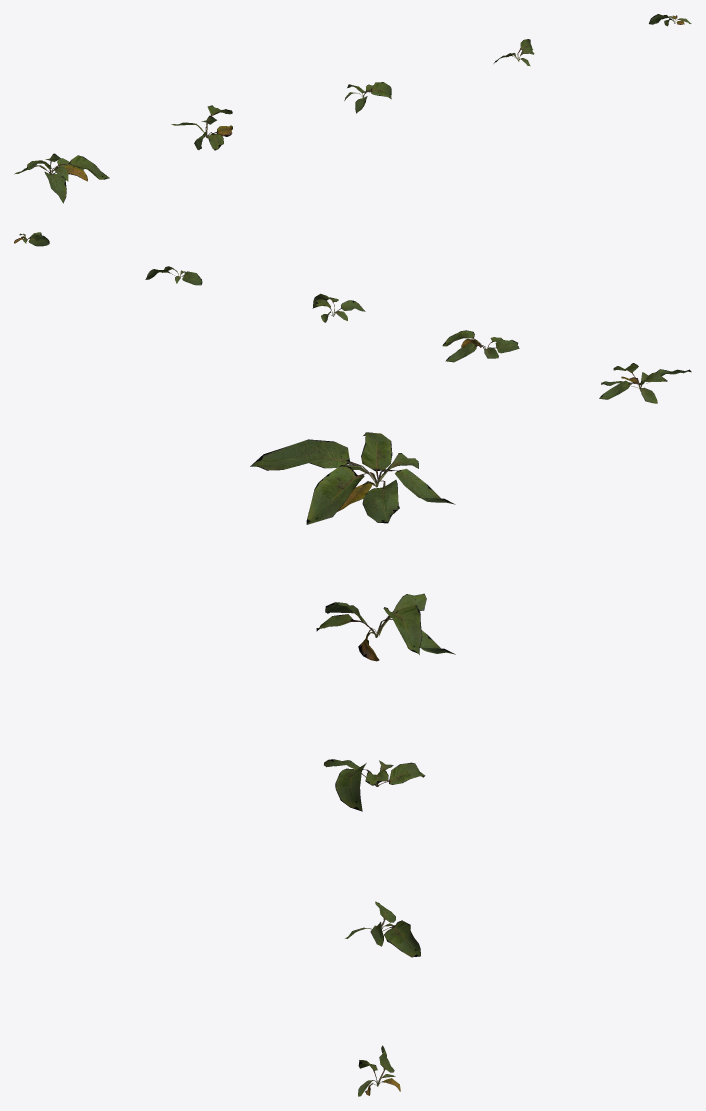
The model's file is weed_plant_02.glb.
3 views of the same model, one above another, from view 1: azimuth 30°, elevation 25°; view 2: azimuth 150°, elevation 25°; view 3: azimuth 270°, elevation 25° (orthographic). The views are drawn at different scales.
Visible parts, largest first — view 1: weed_plant_02_a_LOD0, weed_plant_02_b_LOD0, weed_plant_02_c_LOD0, weed_plant_02_d_LOD0; view 2: weed_plant_02_a_LOD0, weed_plant_02_b_LOD0, weed_plant_02_c_LOD0, weed_plant_02_d_LOD0, weed_plant_02_e_LOD0; view 3: weed_plant_02_a_LOD0, weed_plant_02_b_LOD0, weed_plant_02_c_LOD0, weed_plant_02_d_LOD0.
Part boxes in pixels (<box>): weed_plant_02_a_LOD0: <box>14,153,109,203</box>; weed_plant_02_b_LOD0: <box>171,105,232,150</box>; weed_plant_02_c_LOD0: <box>344,82,391,113</box>; weed_plant_02_d_LOD0: <box>493,39,534,66</box>; weed_plant_02_a_LOD0: <box>599,363,691,403</box>; weed_plant_02_b_LOD0: <box>442,330,519,362</box>; weed_plant_02_c_LOD0: <box>312,293,365,322</box>; weed_plant_02_d_LOD0: <box>145,266,202,285</box>; weed_plant_02_e_LOD0: <box>14,232,49,246</box>; weed_plant_02_a_LOD0: <box>250,432,455,524</box>; weed_plant_02_b_LOD0: <box>316,593,455,661</box>; weed_plant_02_c_LOD0: <box>324,759,425,811</box>; weed_plant_02_d_LOD0: <box>345,901,420,957</box>.
Bounding box in the file's own units: 2.13 × 0.0744 × 0.2909.
1 material, 1 textured.
